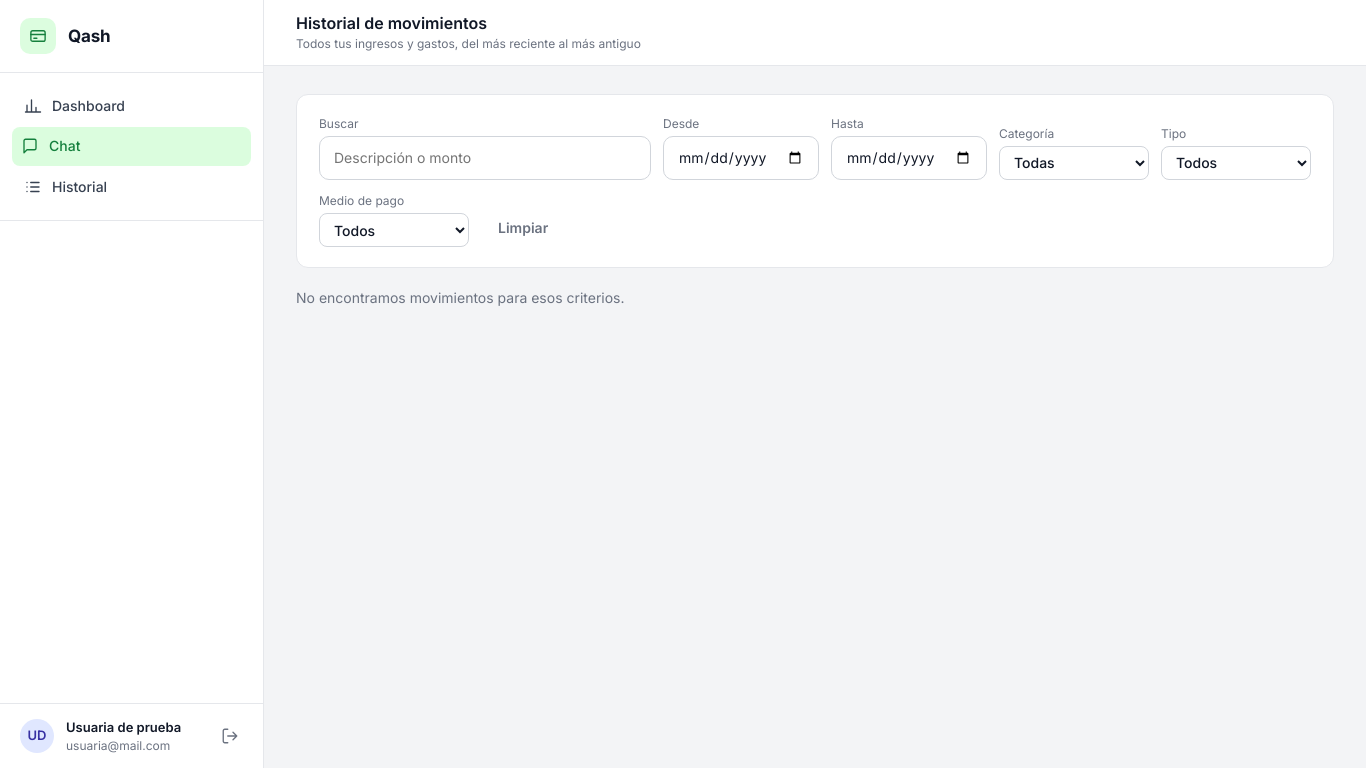
Historial › hu07_ca2 filtrar por categoría vuelve a pedir la lista con ese filtro
The width and height of the screenshot is (1366, 768).
Expected: the text "No encontramos movimientos para esos criterios." is shown, [296,289,624,306]
Select "Sueldo" in the dropdown labelled "Categoría". click: (1074, 163)
box: [999,146,1149,180]
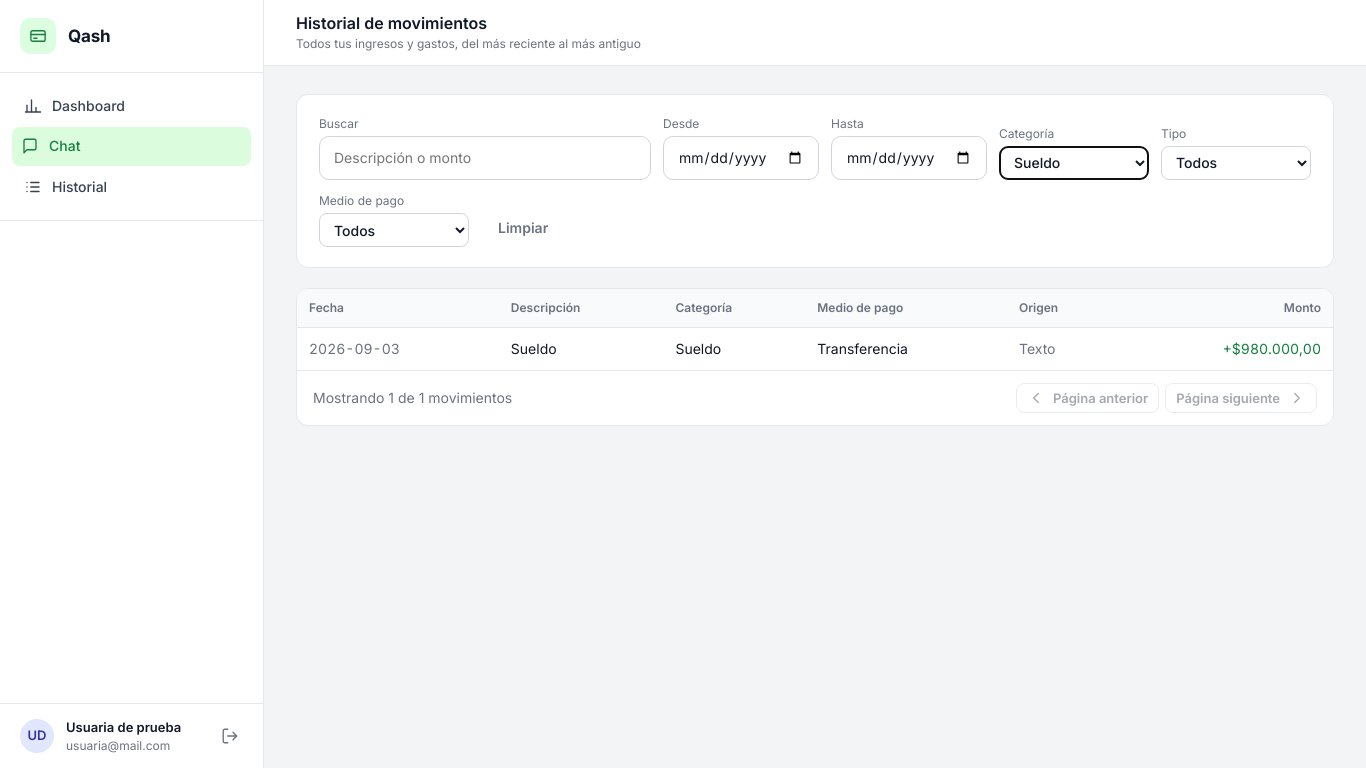
Now the number of rows is 2, box [297,289,1333,327]; [297,327,1333,370]
Now the text "Sueldo" is shown 2 times, box [499,327,663,370]; [663,327,805,370]
